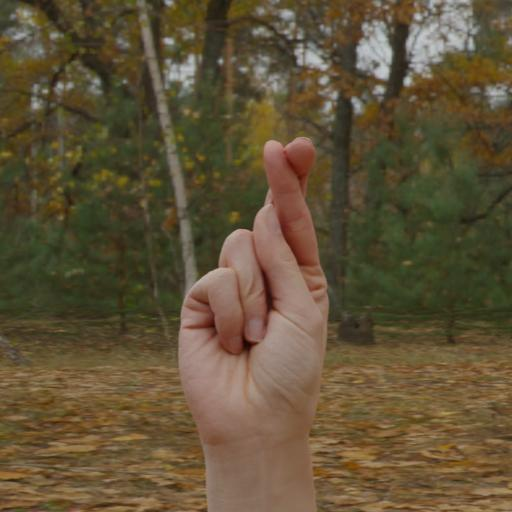R: (173, 133, 332, 436)
